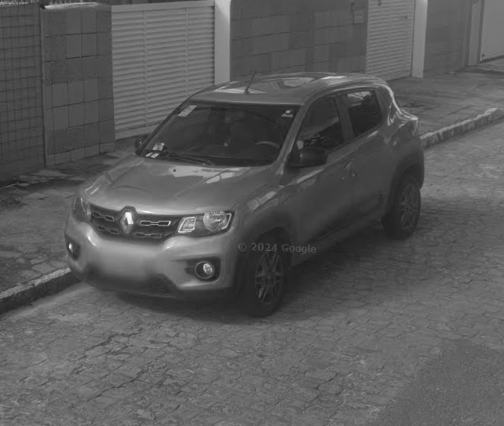car: (62, 67, 429, 321)
